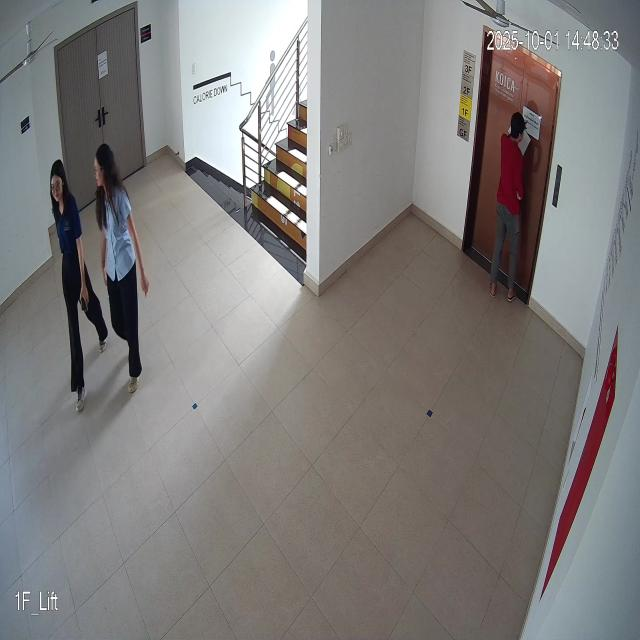face: (47, 157, 71, 209), (92, 143, 114, 194)
